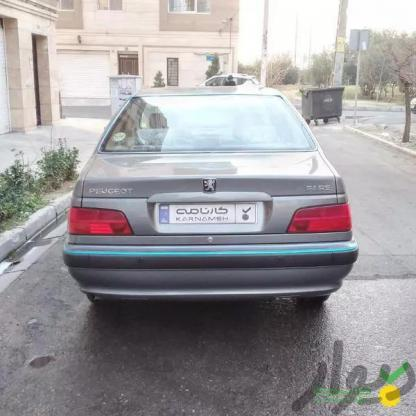Car: (55, 86, 364, 306)
